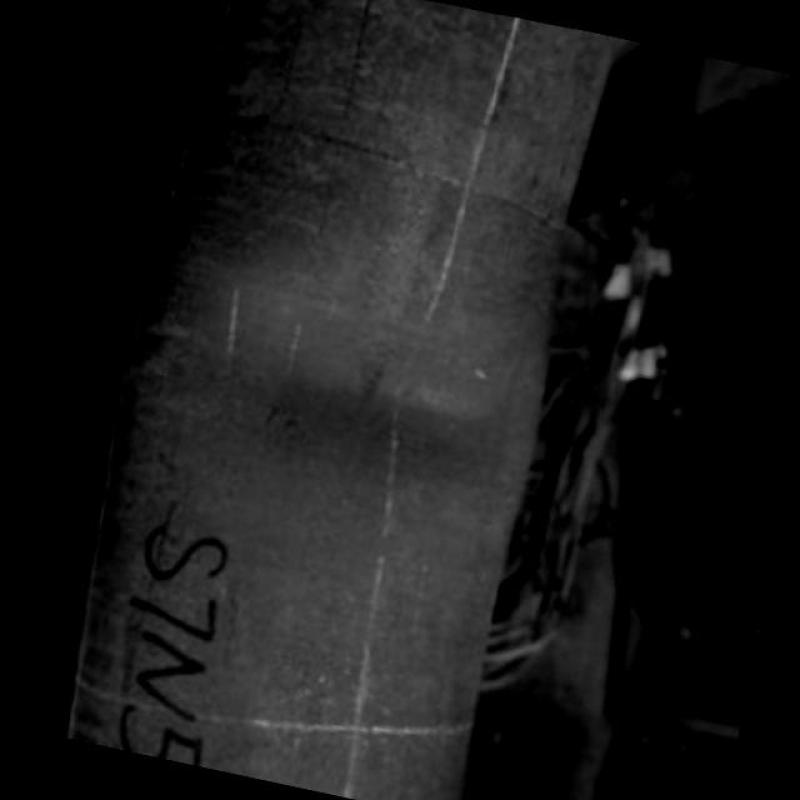Dent: (200, 288, 505, 478)
